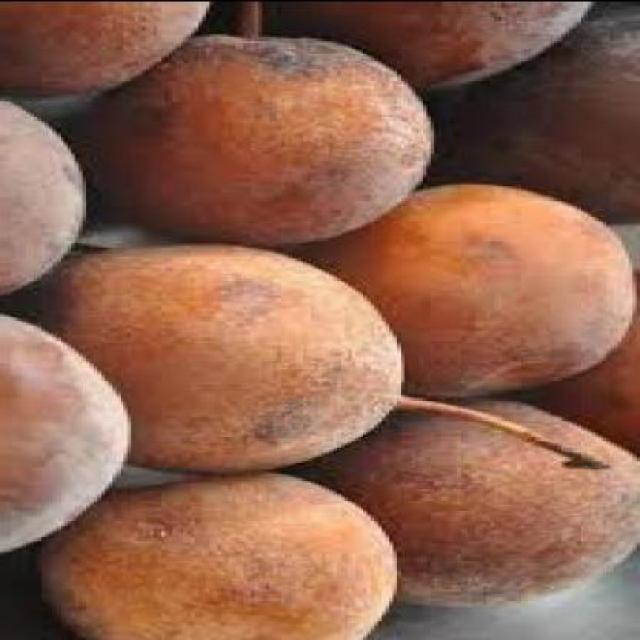BIODEGRADABLE: (34, 248, 400, 470), (74, 35, 446, 247), (296, 183, 632, 399), (314, 398, 638, 610), (37, 472, 401, 638), (434, 8, 638, 224), (3, 316, 139, 556), (274, 2, 588, 88), (3, 2, 206, 98), (532, 275, 639, 453), (4, 102, 93, 298)
